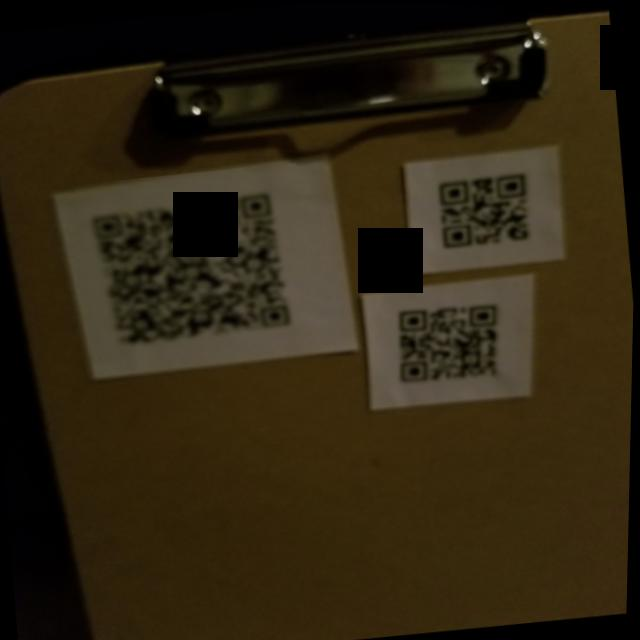QR_CODE: (73, 161, 314, 357), (377, 281, 521, 403), (416, 154, 556, 257)
